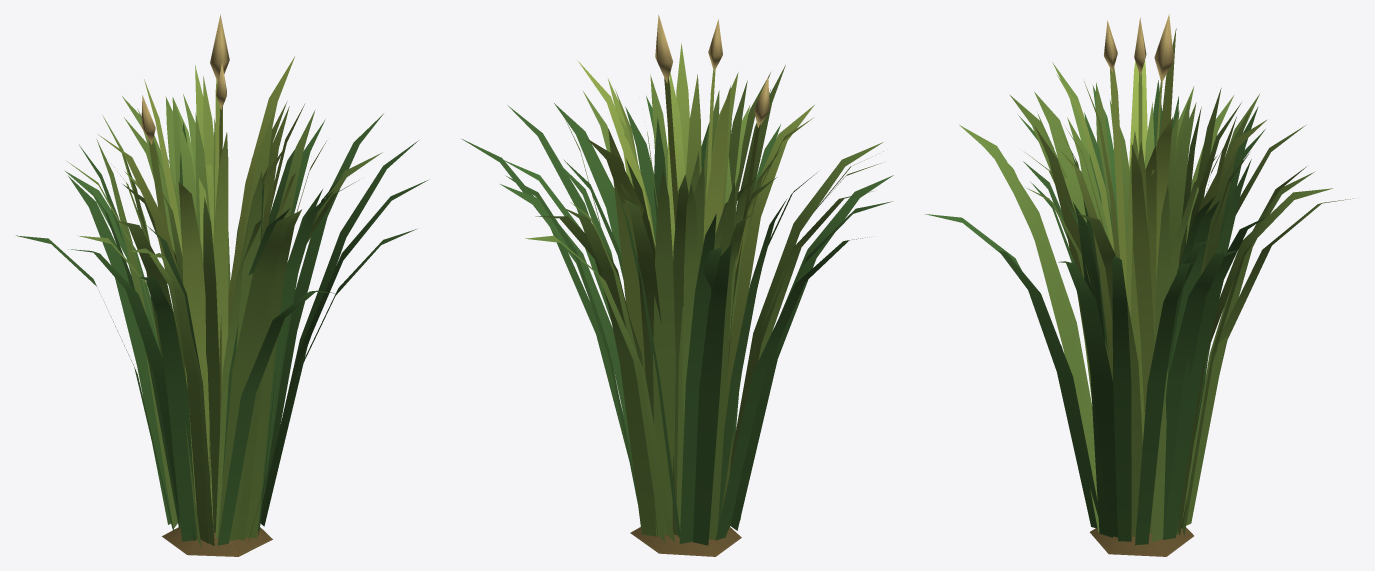
File: tall_grass_3.glb
The picture shows the model from 3 angles, left to right: view 1: azimuth 30°, elevation 25°; view 2: azimuth 150°, elevation 25°; view 3: azimuth 270°, elevation 25°; orthographic projection. The views are drawn at different scales.
Parts seen in each view (by area): view 1: tall_grass_3; view 2: tall_grass_3; view 3: tall_grass_3.
Part boxes in pixels (bbox=[...]): tall_grass_3: bbox=[16, 14, 427, 556]; tall_grass_3: bbox=[462, 15, 893, 556]; tall_grass_3: bbox=[925, 14, 1352, 556].
Bounding box in the file's own units: 0.8 × 1 × 0.75.
2 materials, 2 textured.
